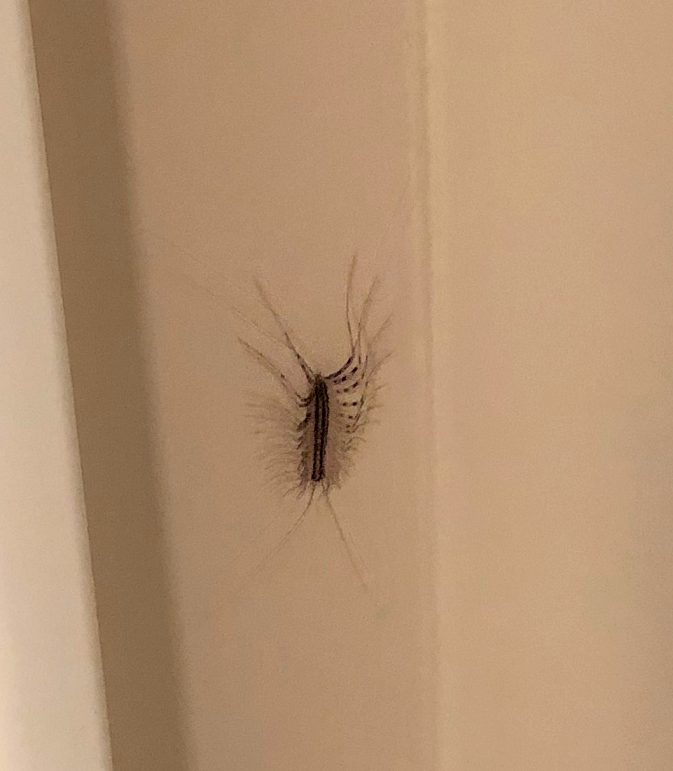centipede: (243, 318, 381, 555)
